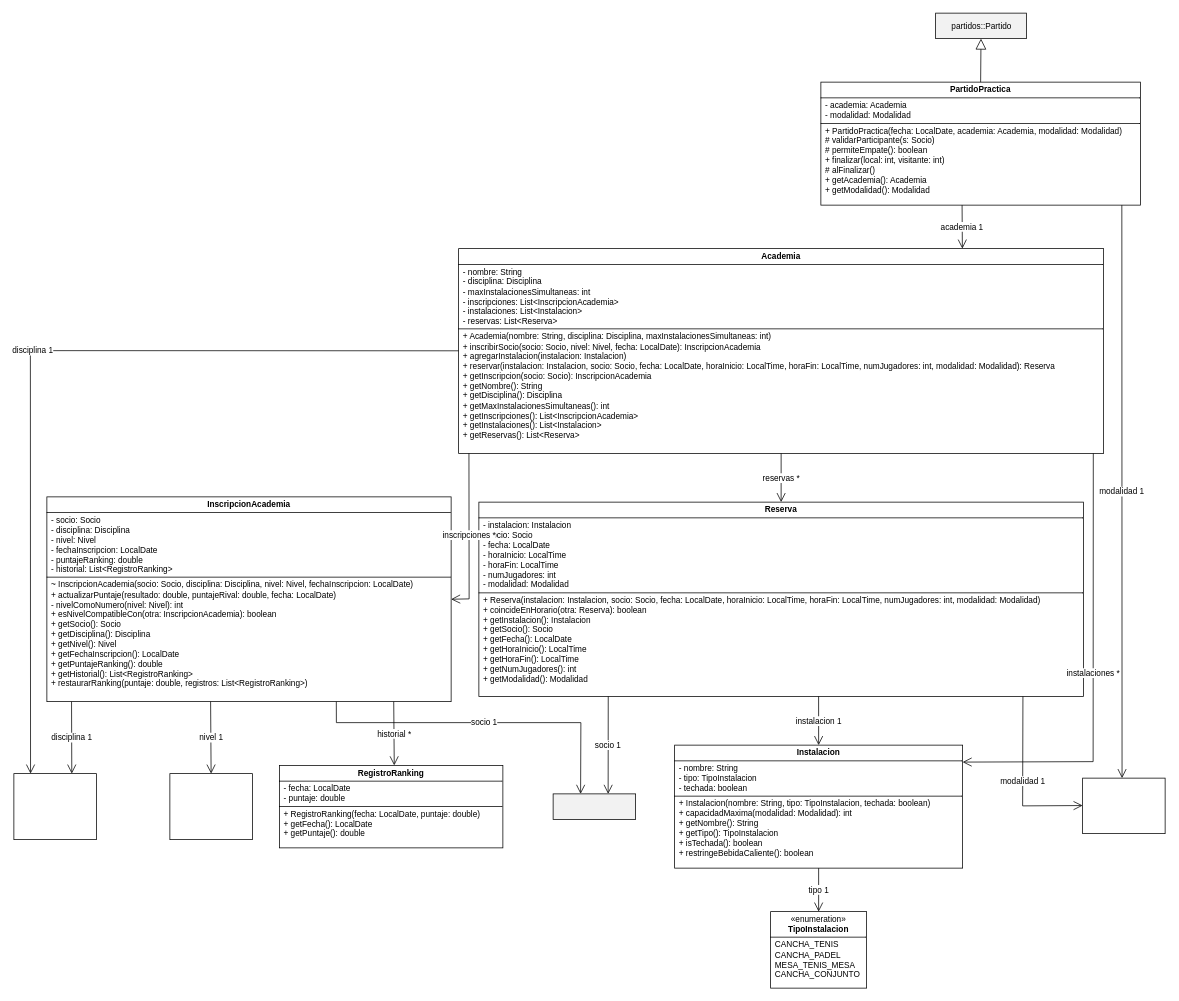
Some shapes in this 1179 by 1001 pixel diagram are drawn without their labels. Each missing label, with the box of its shape:
usuarios::Socio: (552, 793, 636, 819)
«enumeration» Disciplina TENIS PADEL TENIS_MESA: (13, 773, 96, 840)
«enumeration» Modalidad SENCILLOS DOBLES: (1082, 777, 1165, 834)
«enumeration» Nivel PRINCIPIANTE INTERMEDIO AVANZADO: (169, 773, 252, 840)
